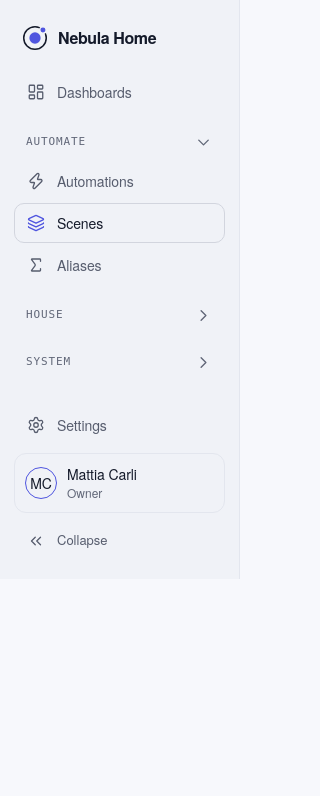
Test: Sidebar › opens the account menu beside the narrow rail, outside the part that scrolls
The image size is (320, 796).
Click the button with aria-label "Collapse sidebar". click: (120, 541)
box: 14,521 -> 225,561
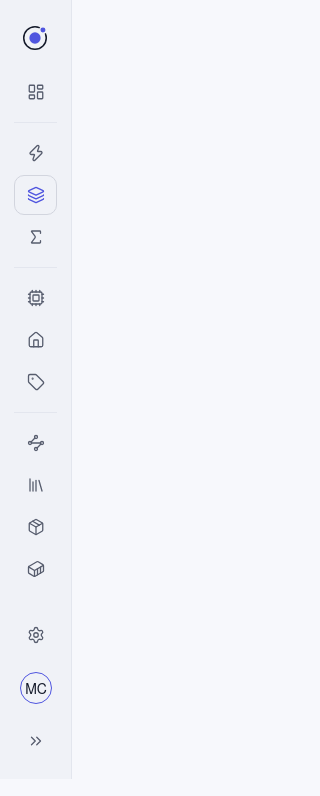
Click the button with aria-label "Account menu". click: (36, 688)
box: 14,663 -> 57,713
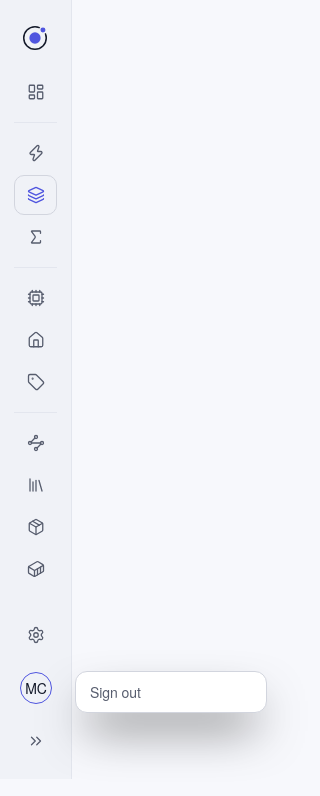
Now the menu item "Sign out" is shown, box 80,676 -> 262,708
